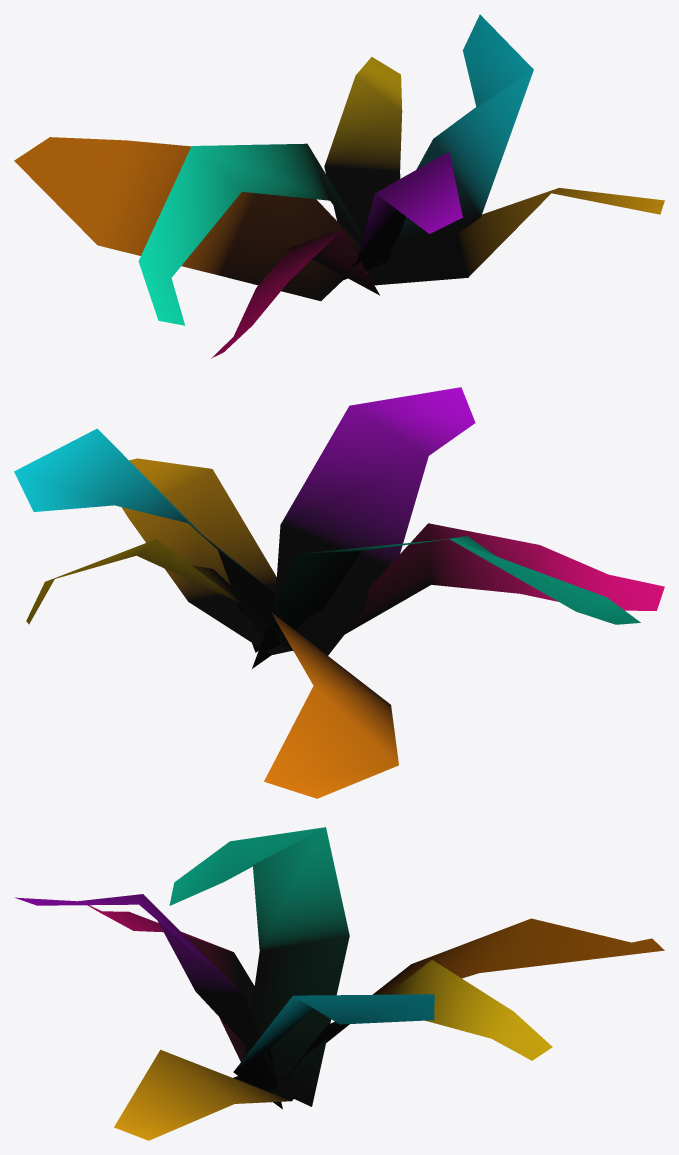
Rendered from fern_02_d.glb.
3 views of the same model, one above another, from view 1: azimuth 30°, elevation 25°; view 2: azimuth 150°, elevation 25°; view 3: azimuth 270°, elevation 25° (orthographic). The views are drawn at different scales.
Parts seen in each view (by area): view 1: fern_02_d; view 2: fern_02_d; view 3: fern_02_d.
Part boxes in pixels (box(x1,y1,x2,y2)): fern_02_d: box(14, 14, 664, 358); fern_02_d: box(14, 387, 664, 798); fern_02_d: box(15, 827, 664, 1140).
Size of the model in its own units: 0.5728 by 0.1993 by 0.5897.
